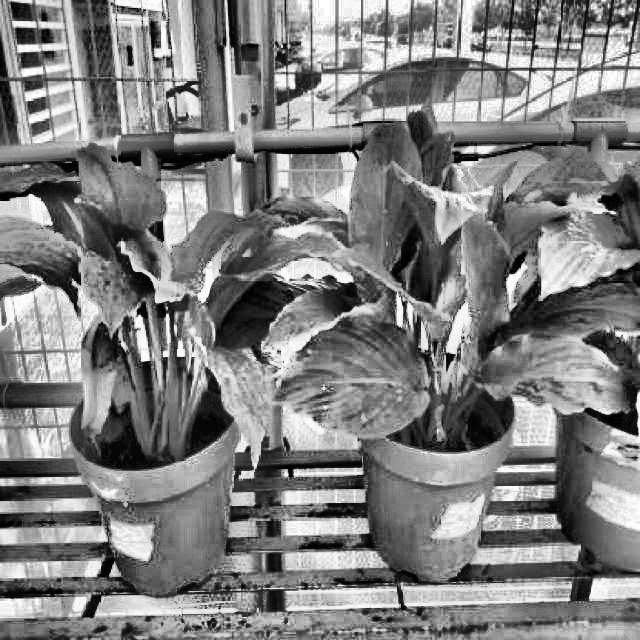plants: (0, 138, 345, 464), (277, 98, 552, 454), (454, 136, 640, 427)
